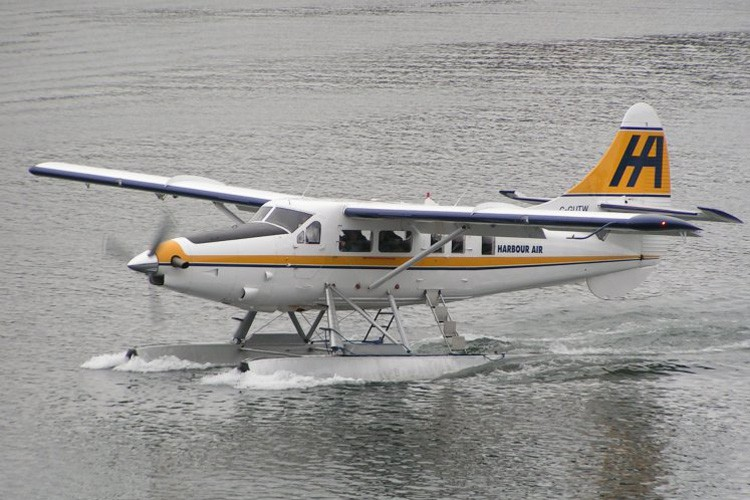Aeronef_commercial: (25, 96, 746, 394)
